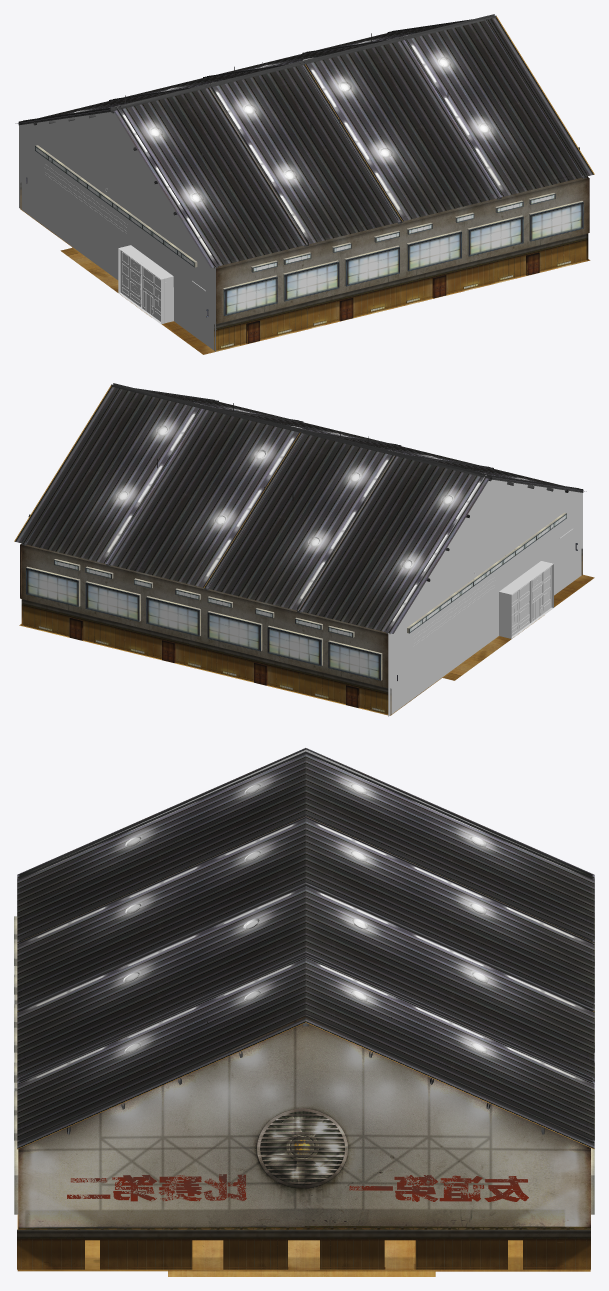
The model's file is lanqiuchang_1.FBX.
3 renders of one model, top to bottom at view 1: azimuth 30°, elevation 25°; view 2: azimuth 150°, elevation 25°; view 3: azimuth 270°, elevation 25°, orthographic. The views are drawn at different scales.
Parts seen in each view (by area): view 1: Training_301, Training_408, Training_203_07, Training_203_03, Training_301_01, Training_002_02, Training_002; view 2: Training_301, Training_408, Training_203_07, Training_203_03, Training_301_01, Training_002_02, Training_002_01; view 3: Training_301, Training_203_02, Training_203_01, Training_203_07, Training_301_01, Training_002_02, Training_002, Training_408, Training_002_01.
Part boxes in pixels (bbox=[...]): Training_301: bbox=[15, 16, 594, 267]; Training_408: bbox=[19, 107, 216, 351]; Training_203_07: bbox=[35, 145, 589, 323]; Training_203_03: bbox=[20, 182, 586, 351]; Training_301_01: bbox=[18, 14, 586, 268]; Training_002_02: bbox=[60, 247, 257, 354]; Training_002: bbox=[258, 259, 590, 341]; Training_301: bbox=[14, 385, 586, 633]; Training_408: bbox=[388, 475, 582, 716]; Training_203_07: bbox=[20, 402, 566, 688]; Training_203_03: bbox=[23, 548, 582, 714]; Training_301_01: bbox=[22, 383, 583, 633]; Training_002_02: bbox=[442, 574, 594, 680]; Training_002_01: bbox=[19, 624, 368, 710]; Training_301: bbox=[17, 748, 594, 1149]; Training_203_02: bbox=[304, 1017, 590, 1229]; Training_203_01: bbox=[18, 1016, 304, 1229]; Training_203_07: bbox=[14, 916, 594, 1269]; Training_301_01: bbox=[19, 749, 592, 1143]; Training_002_02: bbox=[168, 1240, 435, 1276]; Training_002: bbox=[17, 1215, 167, 1271]; Training_408: bbox=[17, 749, 594, 1002]; Training_002_01: bbox=[435, 1240, 590, 1271].
Bounding box in the file's own units: 46244 × 19358 × 40103.
